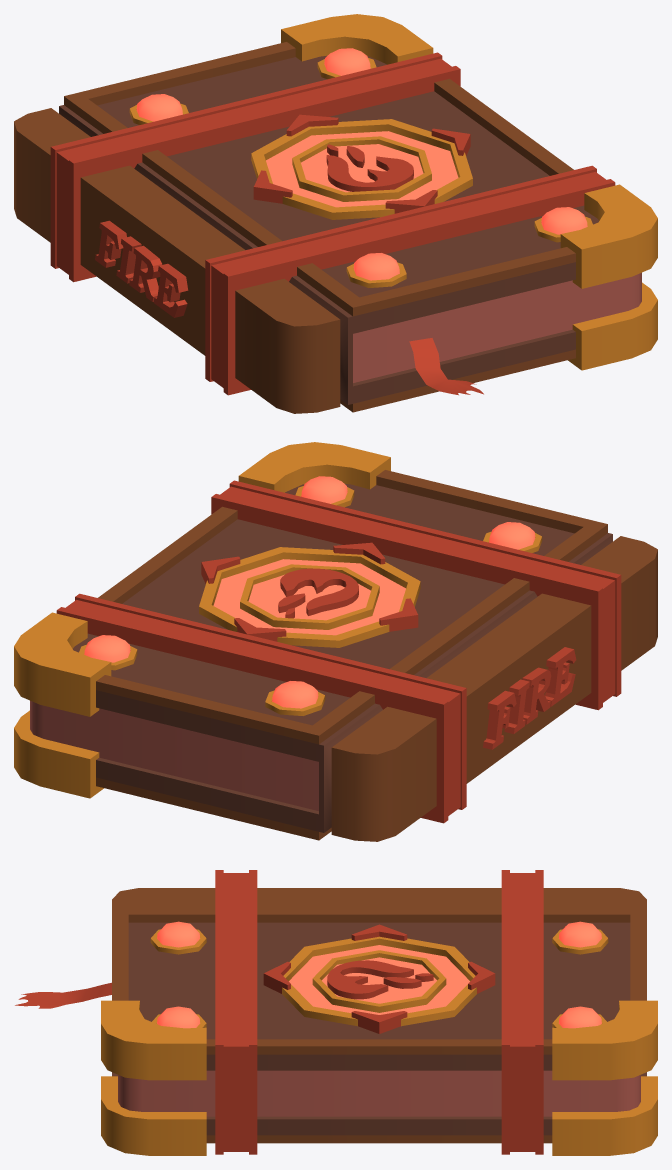
Rendered from Fire book.fbx.
The picture shows the model from 3 angles, top to bottom: view 1: azimuth 30°, elevation 25°; view 2: azimuth 150°, elevation 25°; view 3: azimuth 270°, elevation 25°; orthographic projection. The views are drawn at different scales.
Visible parts, largest first — view 1: Fire book, Fire belt, Fire gems, Fire text, fire icon, Fire bookmark; view 2: Fire book, Fire belt, Fire gems, Fire text, fire icon; view 3: Fire book, Fire belt, Fire gems, fire icon, Fire bookmark.
Part boxes in pixels (x1=…): Fire book: x1=14, y1=14, x2=657, y2=413; Fire belt: x1=50, y1=52, x2=615, y2=395; Fire gems: x1=129, y1=48, x2=592, y2=287; Fire text: x1=95, y1=220, x2=188, y2=317; fire icon: x1=326, y1=144, x2=413, y2=191; Fire bookmark: x1=409, y1=338, x2=483, y2=395; Fire book: x1=14, y1=442, x2=657, y2=841; Fire belt: x1=56, y1=480, x2=621, y2=823; Fire gems: x1=79, y1=476, x2=542, y2=715; Fire text: x1=483, y1=647, x2=576, y2=749; fire icon: x1=278, y1=568, x2=358, y2=618; Fire book: x1=101, y1=888, x2=657, y2=1155; Fire belt: x1=215, y1=870, x2=543, y2=1154; Fire gems: x1=150, y1=921, x2=608, y2=1028; fire icon: x1=327, y1=960, x2=433, y2=999; Fire bookmark: x1=15, y1=982, x2=111, y2=1008.
Size of the model in its own units: 0.2923 by 0.0878 by 0.4524.
